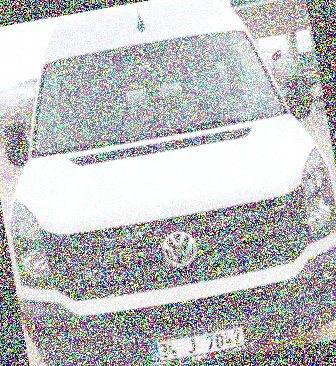plaka: (153, 328, 250, 357)
